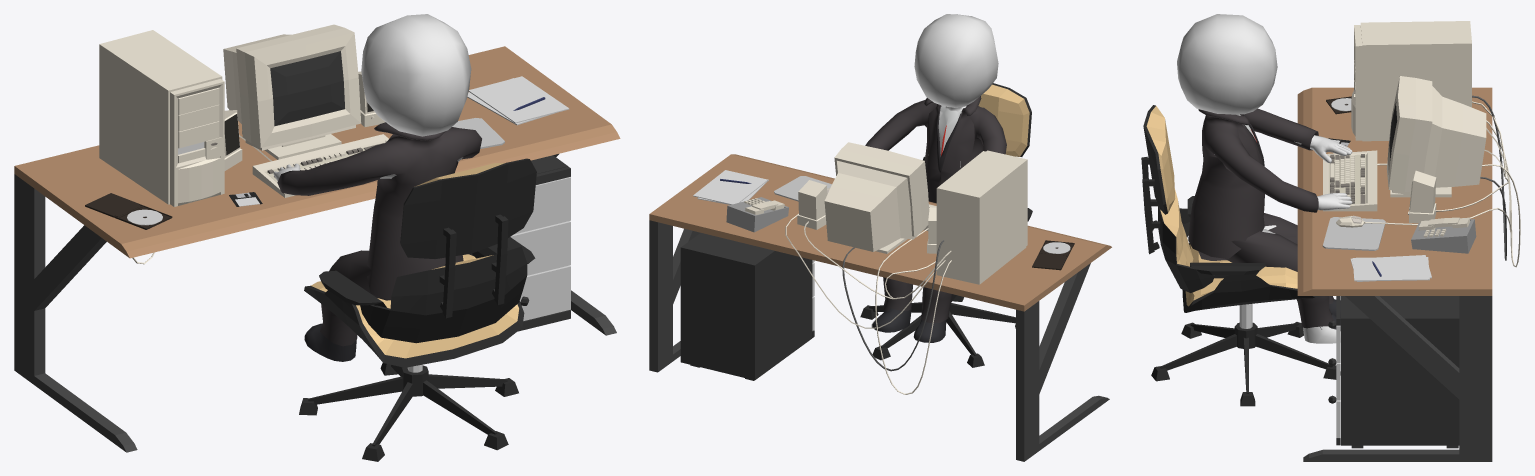
File: Boss With Desk.glb
The picture shows the model from 3 angles, left to right: view 1: azimuth 30°, elevation 25°; view 2: azimuth 150°, elevation 25°; view 3: azimuth 270°, elevation 25°; orthographic projection. The views are drawn at different scales.
Parts seen in each view (by area): view 1: Office_desk, Cube.000, Computer_case, Computer_monitor.001, Suit, Stickman, Drawers, Paper2, Keyboard, CD_case, Shoes, SpeakerR (+1 smaller); view 2: Office_desk, Drawers, Computer_case, Computer_monitor.001, Suit, Stickman, Cube.000, Paper2, Shoes, SpeakerL, Phone_stand, CD_case (+4 smaller); view 3: Office_desk, Drawers, Suit, Cube.000, Computer_case, Stickman, Computer_monitor.001, Keyboard, Paper2, Mousepad, Phone_stand, SpeakerL (+5 smaller).
Boxes of the visible parts, x1,y1,x2,y2 form: Office_desk: (14,46,620,452); Cube.000: (299,158,536,461); Computer_case: (99,30,224,206); Computer_monitor.001: (223,24,361,159); Suit: (277,122,481,346); Stickman: (273,14,471,180); Drawers: (510,155,570,331); Paper2: (468,76,569,123); Keyboard: (252,134,388,197); CD_case: (85,193,172,229); Shoes: (304,323,356,361); SpeakerR: (224,110,242,170); Office_desk: (649,154,1111,461); Drawers: (680,233,814,380); Computer_case: (936,150,1027,284); Computer_monitor.001: (824,142,929,253); Suit: (865,96,1006,322); Stickman: (871,14,998,330); Cube.000: (860,83,1032,367); Paper2: (693,170,767,204); Shoes: (872,308,946,342); SpeakerL: (797,180,827,229); Phone_stand: (726,197,788,232); CD_case: (1032,240,1074,270); Office_desk: (1297,87,1492,461); Drawers: (1328,296,1459,448); Suit: (1188,108,1334,328); Cube.000: (1141,105,1340,406); Computer_case: (1351,21,1471,141); Stickman: (1177,14,1352,343); Computer_monitor.001: (1386,76,1486,197); Keyboard: (1323,150,1377,211); Paper2: (1352,257,1429,281); Mousepad: (1322,217,1385,250); Phone_stand: (1411,219,1476,253); SpeakerL: (1408,170,1436,223).
Bounding box in the file's own units: 188 × 148 × 149.
4 materials, 3 textured.
